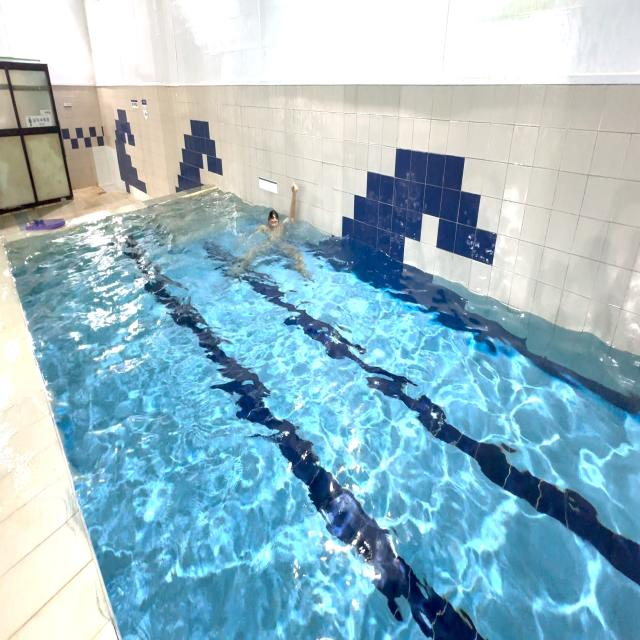Drowning: (226, 174, 312, 290)
